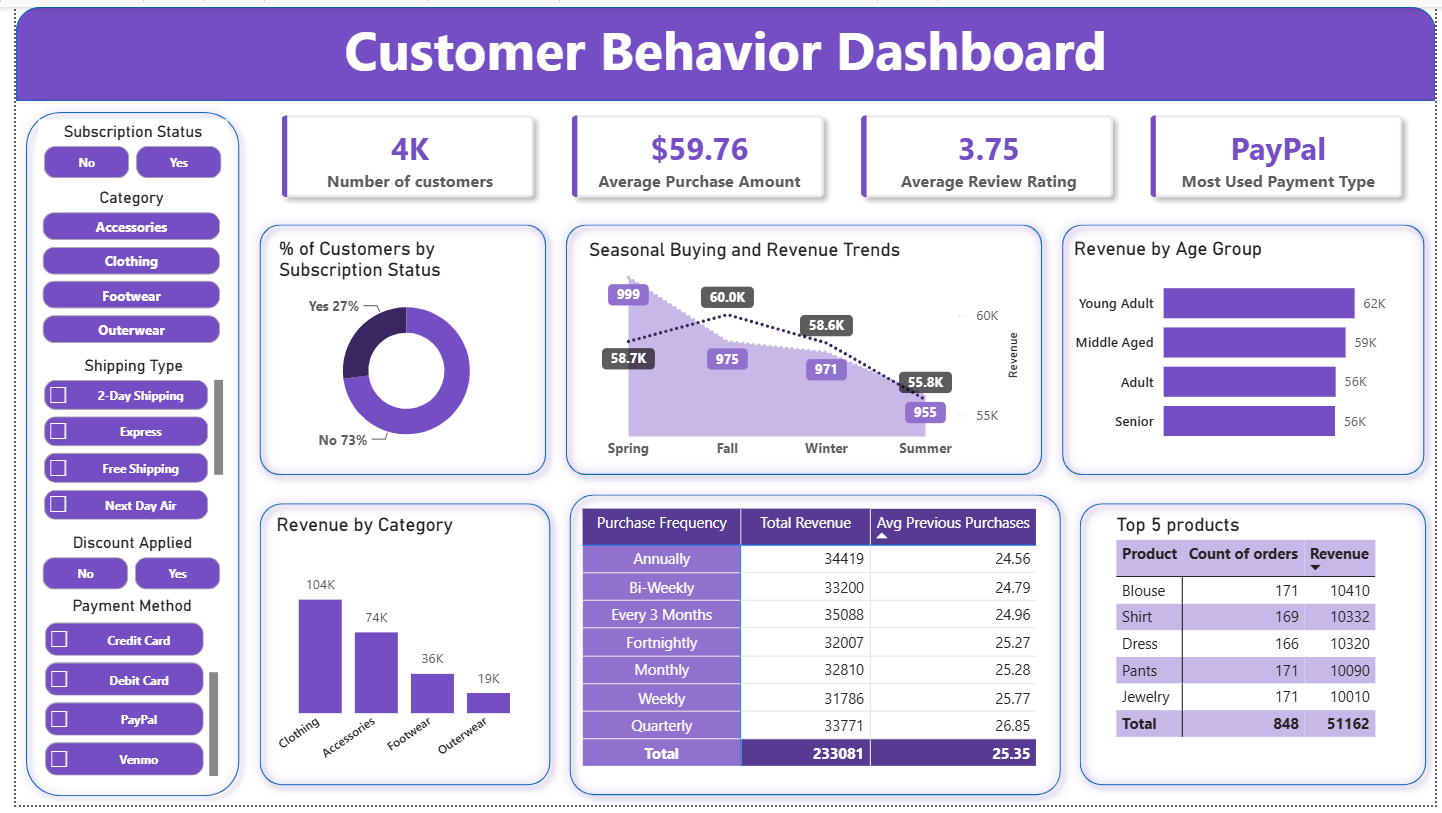

Layout of this report page (visuals, bound fields, positions):
{"tool":"powerbi","page":{"name":"Page 1","canvas":[1280,720],"ordinal":0},"visuals":[{"type":"cardVisual","fields":{"Data":["customer_analysis shopping_behavior.Number of customer","customer_analysis shopping_behavior.Average Purchase Amount","customer_analysis shopping_behavior.Average Review Rating","customer_analysis shopping_behavior.Maximum Used Payment Type"]},"box":[210,68.8,1068.8,132.5],"z":0},{"type":"shape","box":[925.3,198.8,353.4,231.9],"z":0,"group":"g3"},{"type":"group","id":"g1","title":"Group 1","box":[210,199.3,353.1,232],"z":0,"group":"g4"},{"type":"shape","box":[210,199.3,353.1,232],"z":0,"group":"g1"},{"type":"shape","box":[563.1,199.3,361.9,232],"z":0,"group":"g2"},{"type":"group","id":"g2","title":"Group 2","box":[563.1,199.3,361.9,232],"z":1000,"group":"g4"},{"type":"donutChart","title":"% of Customers by Subscription Status","fields":{"Y":["customer_analysis shopping_behavior.Number of customers"],"Category":["customer_analysis shopping_behavior.subscription_status"]},"box":[231.4,218.6,310.4,193.3],"z":1000,"group":"g1"},{"type":"columnChart","title":"Revenue by Category","fields":{"Y":["Sum(customer_analysis shopping_behavior.purchase_amount_(usd))"],"Category":["customer_analysis shopping_behavior.category"]},"box":[581.7,218.8,328.4,193.5],"z":1000,"group":"g2"},{"type":"shape","box":[210,431.2,371.2,280],"z":1000},{"type":"shape","box":[581.2,430,443.8,281.2],"z":2000},{"type":"shape","box":[0,0,1280,85],"z":3000},{"type":"clusteredBarChart","title":"Revenue by Age Group","fields":{"Category":["customer_analysis shopping_behavior.age_group"],"Y":["Sum(customer_analysis shopping_behavior.purchase_amount_(usd))"]},"box":[940.8,218,320.7,190.1],"z":4000,"group":"g3"},{"type":"textbox","box":[0,0,1280,76.2],"z":5000},{"type":"shape","box":[0,95.4,210.3,624.9],"z":6000},{"type":"advancedSlicerVisual","title":"Subscription Status","fields":{"Values":["customer_analysis shopping_behavior.subscription_status"]},"box":[18.8,116.2,171.2,62.5],"z":7000},{"type":"advancedSlicerVisual","title":"Gender","fields":{"Values":["customer_analysis shopping_behavior.gender"]},"box":[18.8,178.8,171.2,61.2],"z":9000},{"type":"advancedSlicerVisual","title":"Category","fields":{"Values":["customer_analysis shopping_behavior.category"]},"box":[18.8,240,171.2,63.8],"z":10000},{"type":"advancedSlicerVisual","title":"Shipping Type","fields":{"Values":["customer_analysis shopping_behavior.shipping_type"]},"box":[18.8,303.8,171.2,88.8],"z":11000},{"type":"areaChart","title":"Seasonal Buying and Revenue Trends","fields":{"Category":["customer_analysis shopping_behavior.season"],"Y":["CountNonNull(customer_analysis shopping_behavior.item_purchased)"],"Y2":["Sum(customer_analysis shopping_behavior.purchase_amount_(usd))"]},"box":[231.2,453.8,331.2,238.8],"z":11001},{"type":"group","id":"g3","title":"Group 3","box":[925.3,198.8,353.4,231.9],"z":11002,"group":"g4"},{"type":"shape","box":[1025,431.2,253.8,281.2],"z":11003},{"type":"pivotTable","title":"Seasonal Buying Trends","fields":{"Values":["Sum(customer_analysis shopping_behavior.purchase_amount_(usd))","Avg(customer_analysis shopping_behavior.previous_purchases)"],"Rows":["customer_analysis shopping_behavior.frequency_of_purchases"]},"box":[596.2,445,428.8,247.5],"z":11004},{"type":"group","id":"g4","title":"Group 4","box":[210,198.8,1068.8,232.5],"z":11005},{"type":"advancedSlicerVisual","title":"Payment Method","fields":{"Values":["customer_analysis shopping_behavior.payment_method"]},"box":[12.5,453.8,177.5,120],"z":11006},{"type":"advancedSlicerVisual","title":"Discount Applied","fields":{"Values":["customer_analysis shopping_behavior.discount_applied"]},"box":[18.8,392.5,171.2,61.2],"z":11007},{"type":"pivotTable","title":"Top 5 products","fields":{"Rows":["customer_analysis shopping_behavior.item_purchased"],"Values":["CountNonNull(customer_analysis shopping_behavior.item_purchased)","Sum(customer_analysis shopping_behavior.purchase_amount_(usd))"]},"box":[1046.2,453.8,216.2,238.8],"z":11008},{"type":"advancedSlicerVisual","title":"Age Group","fields":{"Values":["customer_analysis shopping_behavior.age_group"]},"box":[12.5,573.8,177.5,120],"z":11009}]}

Visuals, with their boxes in screenshot pixels (x1, y1, x2, y2), scaled from the page's 1280x720 canvas onto the 1442x813 screenshot:
cardVisual - customer_analysis shopping_behavior.Number of customer x customer_analysis shopping_behavior.Average Purchase Amount: [237,78,1441,227]
shape: [1042,224,1441,486]
"Group 1" group: [237,225,634,487]
shape: [237,225,634,487]
shape: [634,225,1042,487]
"Group 2" group: [634,225,1042,487]
"% of Customers by Subscription Status" donutChart: [261,247,610,465]
"Revenue by Category" columnChart: [655,247,1025,466]
shape: [237,487,655,803]
shape: [655,486,1155,803]
shape: [0,0,1441,96]
"Revenue by Age Group" clusteredBarChart: [1060,246,1421,461]
textbox: [0,0,1441,86]
shape: [0,108,237,812]
"Subscription Status" advancedSlicerVisual: [21,131,214,202]
"Gender" advancedSlicerVisual: [21,202,214,271]
"Category" advancedSlicerVisual: [21,271,214,343]
"Shipping Type" advancedSlicerVisual: [21,343,214,443]
"Seasonal Buying and Revenue Trends" areaChart: [260,512,634,782]
"Group 3" group: [1042,224,1441,486]
shape: [1155,487,1441,804]
"Seasonal Buying Trends" pivotTable: [672,502,1155,782]
"Group 4" group: [237,224,1441,487]
"Payment Method" advancedSlicerVisual: [14,512,214,648]
"Discount Applied" advancedSlicerVisual: [21,443,214,512]
"Top 5 products" pivotTable: [1179,512,1422,782]
"Age Group" advancedSlicerVisual: [14,648,214,783]
